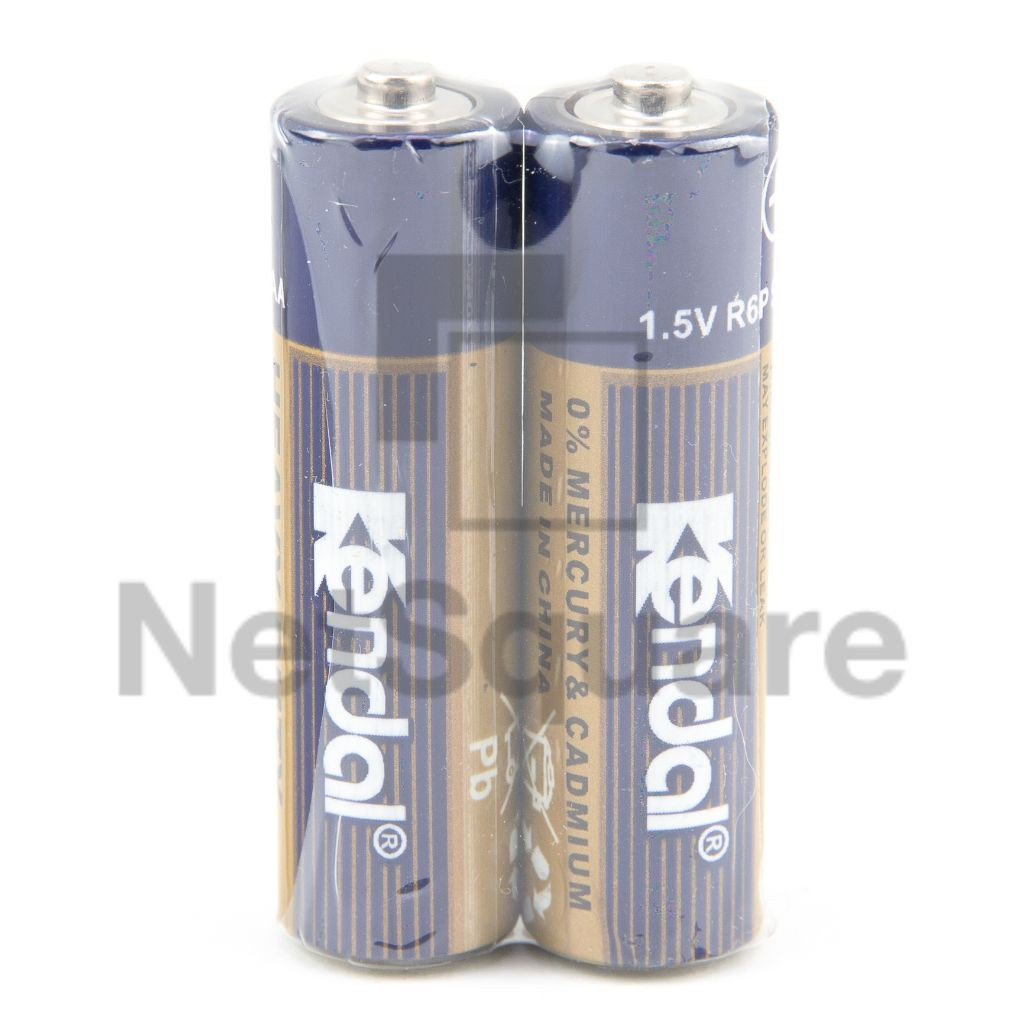Battery: (264, 58, 525, 974), (526, 64, 781, 975)
